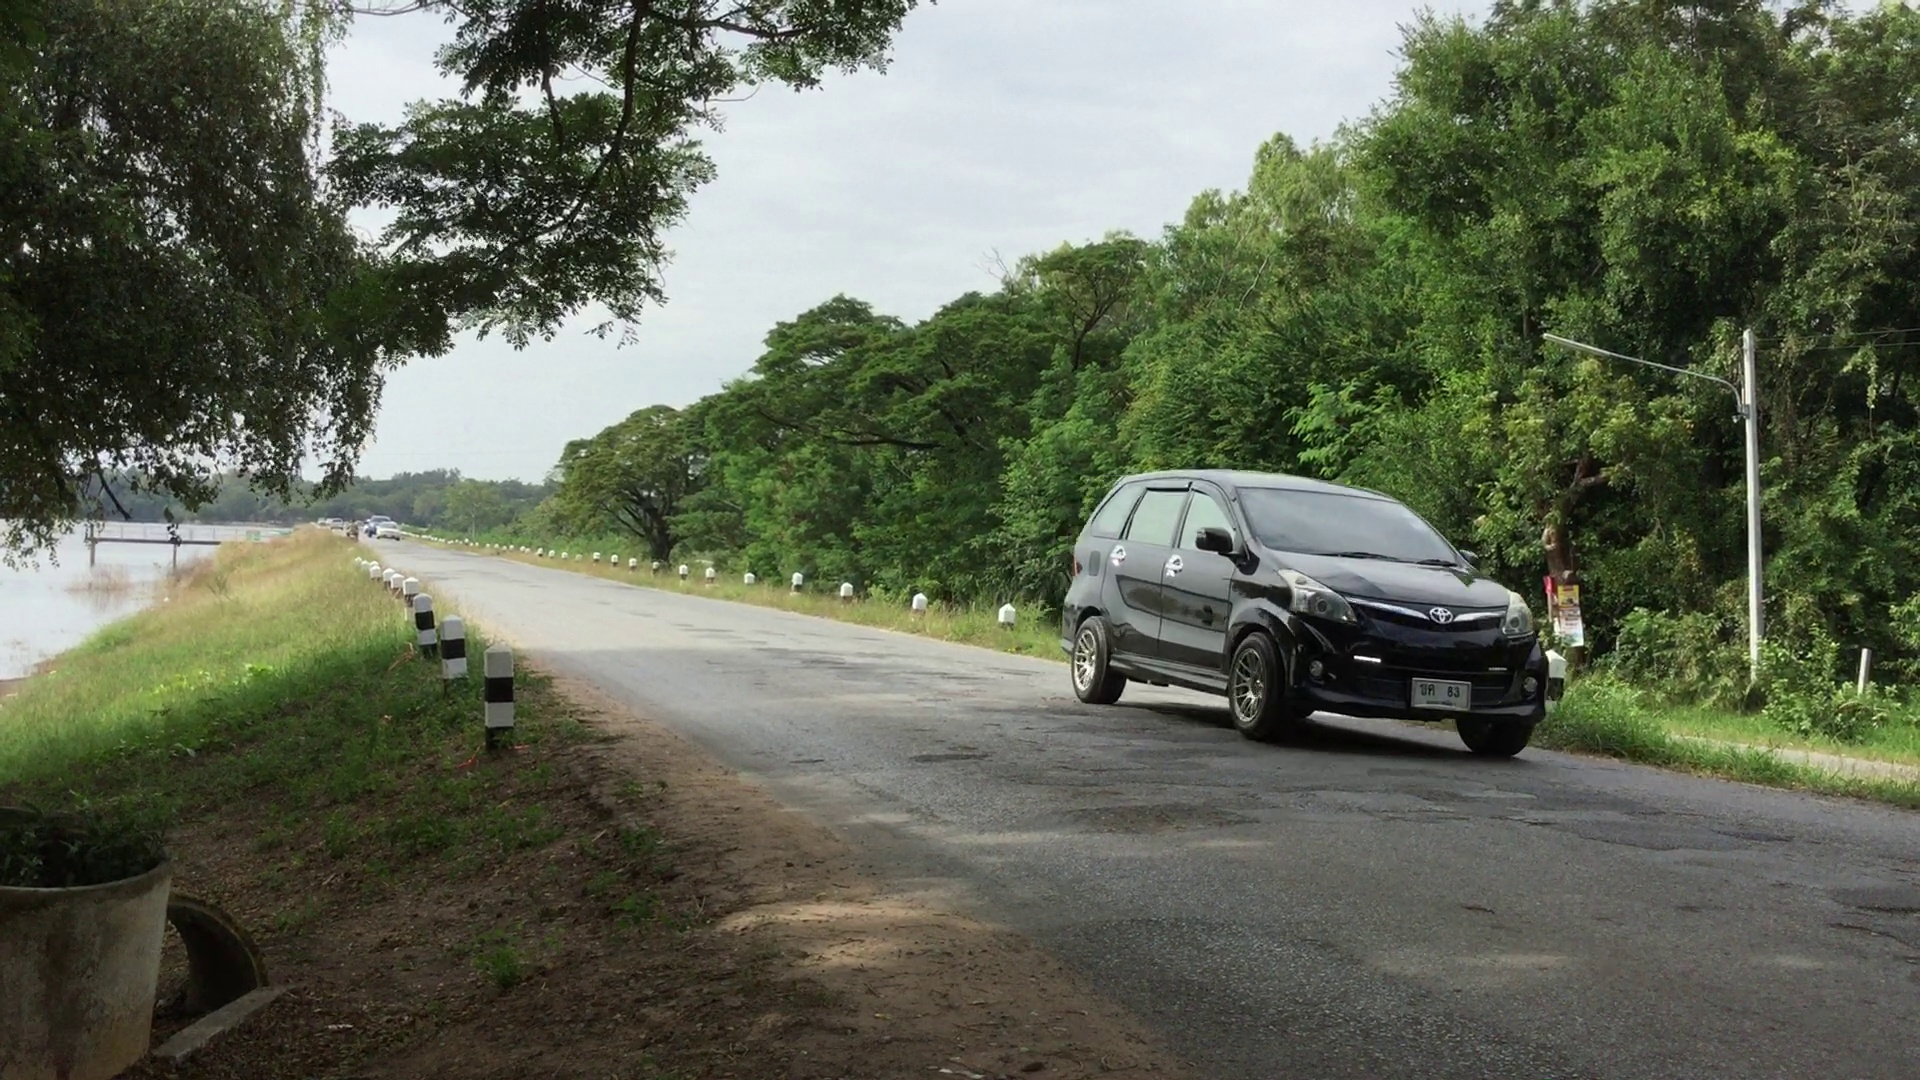car: (1060, 464, 1563, 757)
post: (480, 645, 516, 742), (438, 612, 469, 678), (411, 593, 436, 653)
